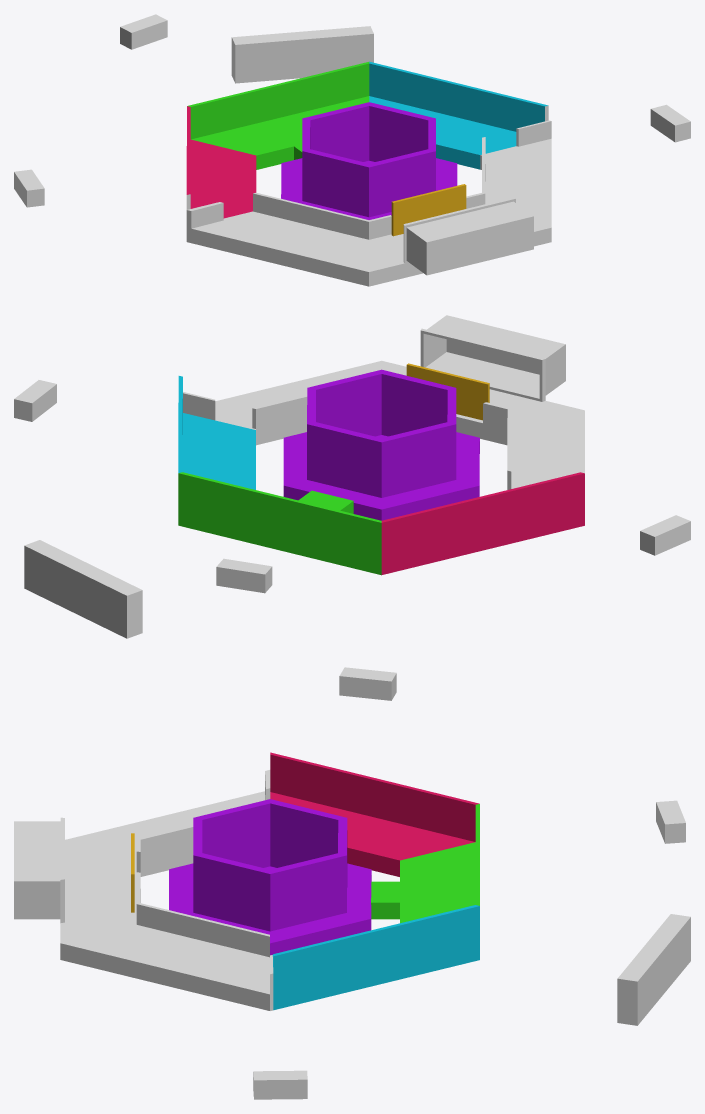
File: lobby_1.0.fbx
3 renders of one model, top to bottom at view 1: azimuth 30°, elevation 25°; view 2: azimuth 150°, elevation 25°; view 3: azimuth 270°, elevation 25°, orthographic. The views are drawn at different scales.
Parts seen in each view (by area): view 1: Cylinder, Cylinder.001, Cube.001, Cube, Cube.004, Cube.003, Cube.002; view 2: Cylinder, Cylinder.001, Cube.001, Cube, Cube.004, Cube.002, Cube.003; view 3: Cylinder, Cylinder.001, Cube.001, Cube.002, Cube.003, Cube.004.
Boxes of the visible parts, x1=… form: Cylinder: x1=186, y1=61, x2=551, y2=286; Cylinder.001: x1=281, y1=102, x2=457, y2=219; Cube.001: x1=231, y1=26, x2=373, y2=83; Cube: x1=391, y1=184, x2=466, y2=236; Cube.004: x1=120, y1=14, x2=167, y2=49; Cube.003: x1=650, y1=104, x2=690, y2=142; Cube.002: x1=14, y1=169, x2=44, y2=207; Cylinder: x1=178, y1=315, x2=584, y2=575; Cylinder.001: x1=283, y1=369, x2=479, y2=520; Cube.001: x1=24, y1=540, x2=142, y2=638; Cube: x1=406, y1=363, x2=489, y2=420; Cube.004: x1=216, y1=558, x2=272, y2=593; Cube.002: x1=640, y1=515, x2=690, y2=555; Cube.003: x1=14, y1=380, x2=56, y2=421; Cylinder: x1=14, y1=752, x2=479, y2=1010; Cylinder.001: x1=169, y1=799, x2=371, y2=955; Cube.001: x1=617, y1=914, x2=690, y2=1025; Cube.002: x1=339, y1=667, x2=396, y2=700; Cube.003: x1=253, y1=1070, x2=307, y2=1099; Cube.004: x1=656, y1=800, x2=685, y2=843.
Size of the model in its own units: 1712 by 226 by 1398.
